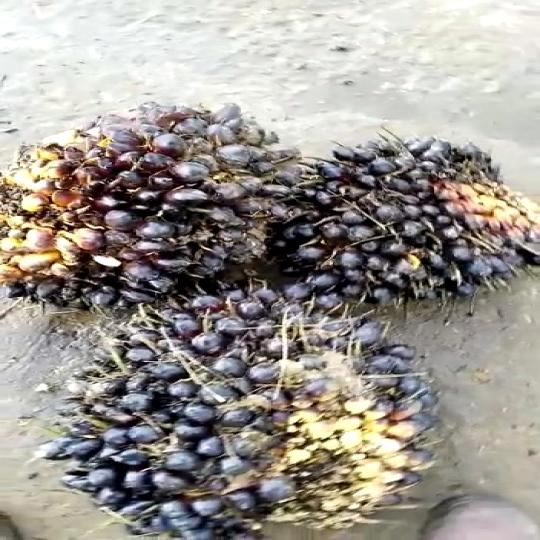mentah: (54, 289, 455, 540), (0, 103, 301, 330), (283, 127, 540, 320)
